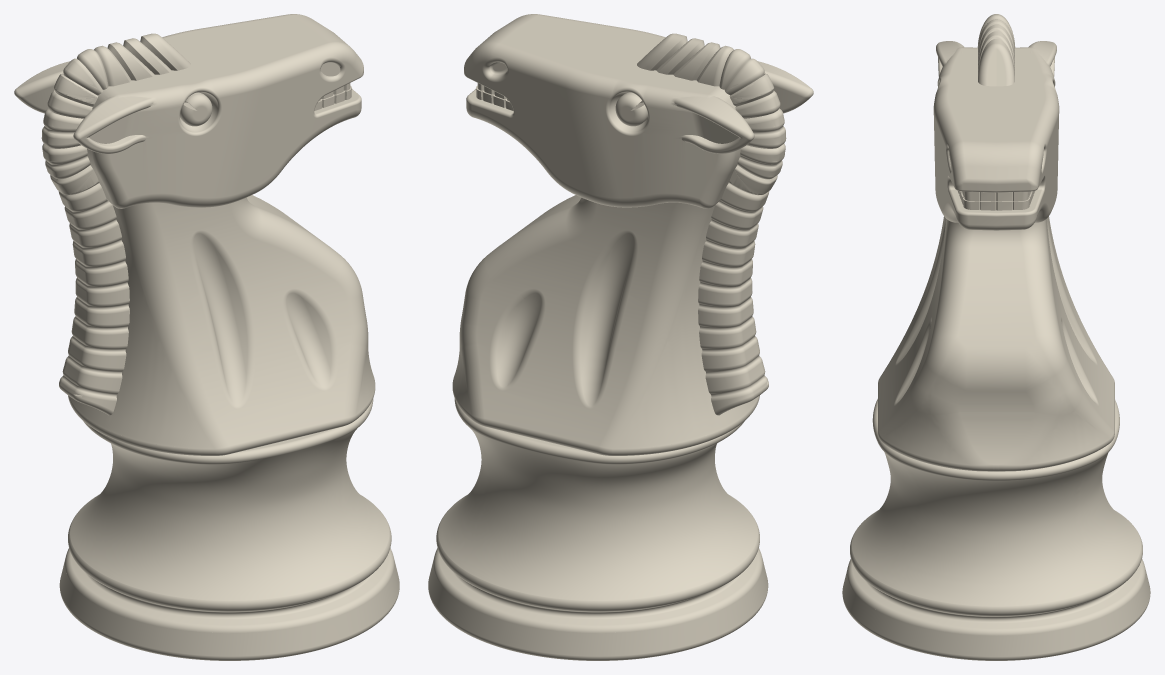
Rendered from knight_small.glb.
3 renders of one model, left to right at view 1: azimuth 30°, elevation 25°; view 2: azimuth 150°, elevation 25°; view 3: azimuth 270°, elevation 25°, orthographic. The views are drawn at different scales.
Visible parts, largest first — view 1: Object_2; view 2: Object_2; view 3: Object_2.
Boxes of the visible parts, bbox=[...] form: Object_2: bbox=[14, 14, 399, 660]; Object_2: bbox=[428, 14, 813, 660]; Object_2: bbox=[842, 14, 1150, 660].
Bounding box in the file's own units: 40.24 × 66.57 × 35.68.
